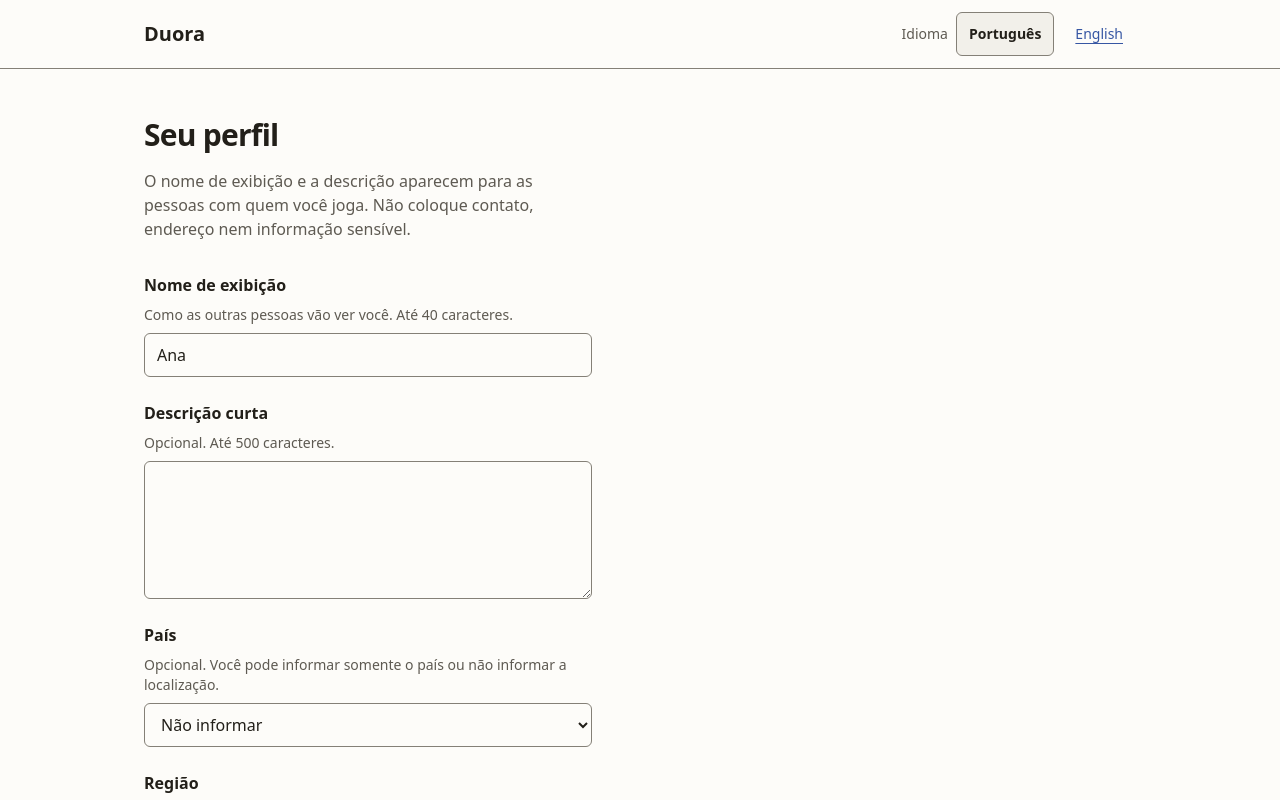
Scenario: perfil: região › código de região que esta versão não conhece aparece como "Não informar" e não é apagado
The image size is (1280, 800).
Replace the text in the field labelled "Nome de exibição" with "Bia" at (368, 355), box [144, 333, 592, 377]
(page scrolled)
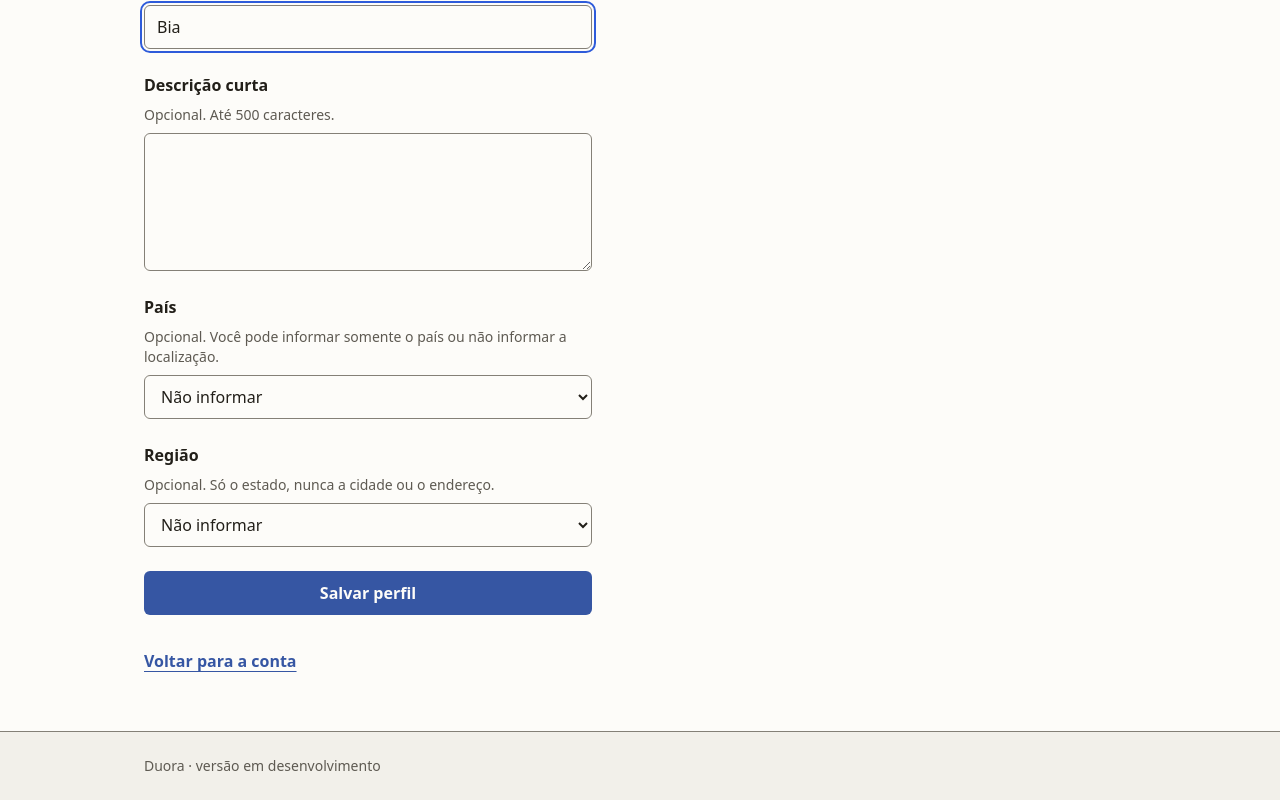
Click the button "Salvar perfil" at (368, 593), box [144, 571, 592, 615]
(page scrolled)
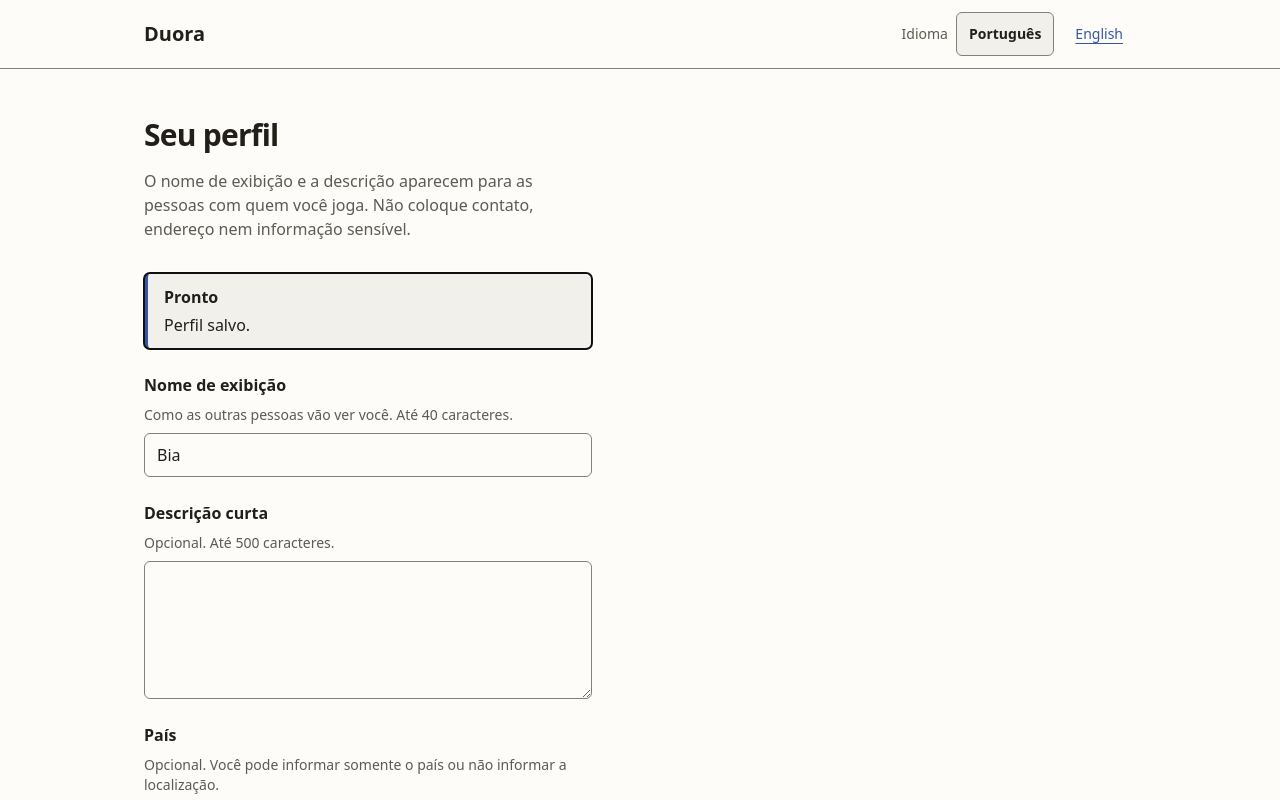
Result: the text "Perfil salvo." is shown at [164, 314, 250, 336]
